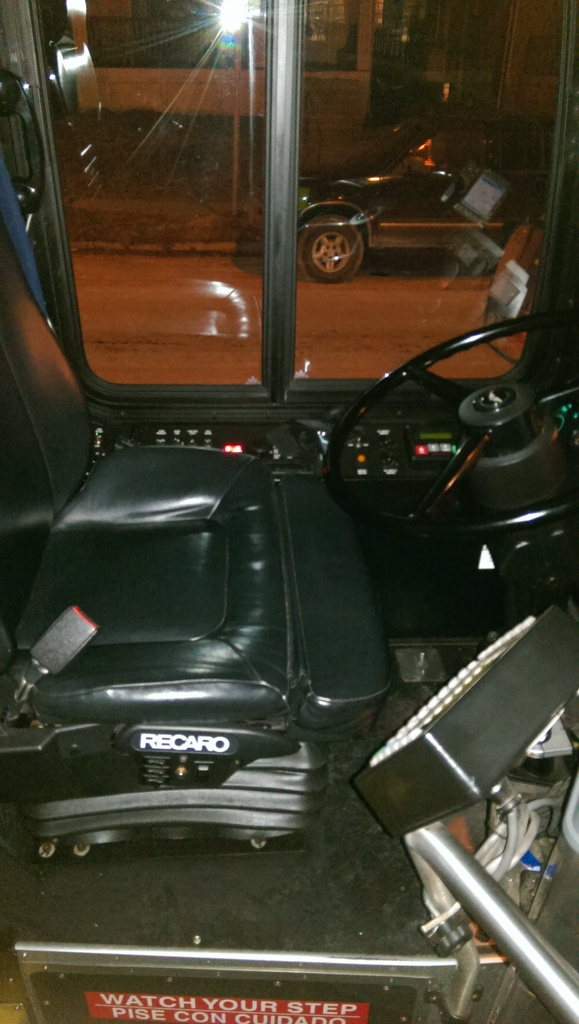Car: (297, 106, 555, 279)
